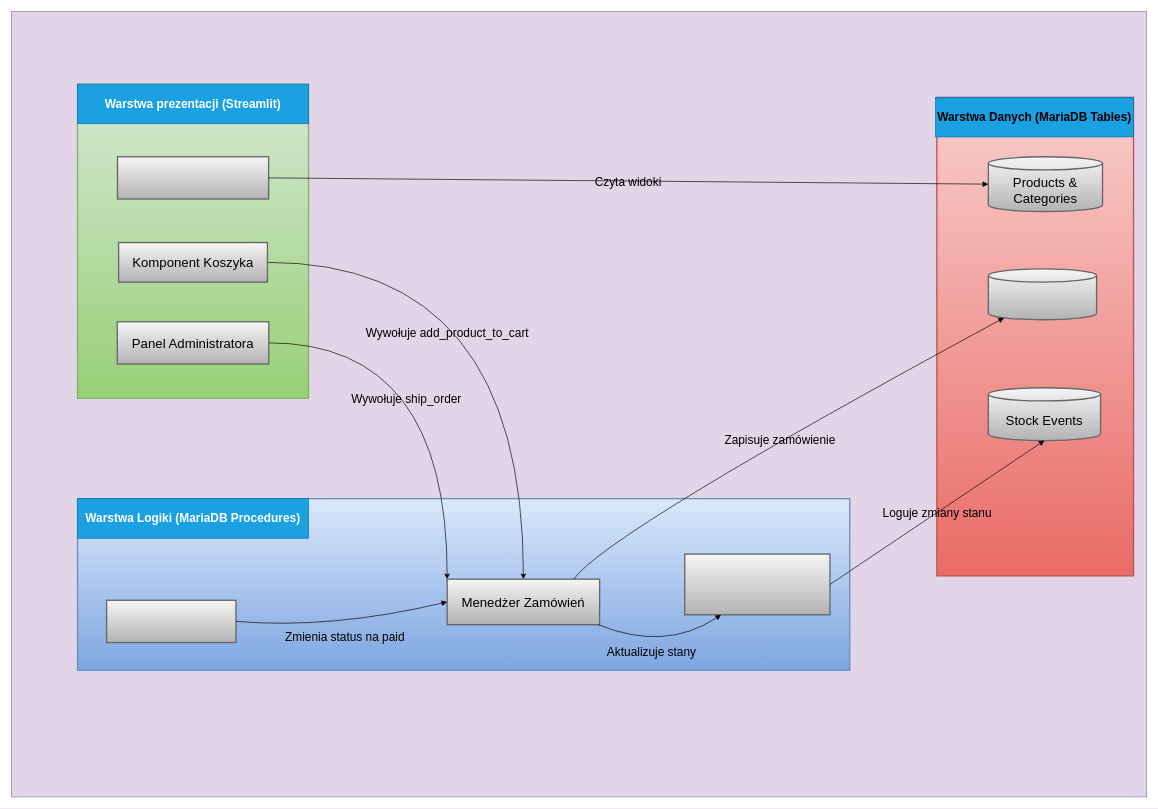
The diagram is 1158 pixels wide and 809 high, and some of its shapes have lost their labels. The box of each missing label's shape, as (x1, y1, x2, y2) in pixels:
Komponent Katalogu: (116, 156, 269, 199)
Menedżer Magazynu Event Sourcing: (684, 553, 830, 615)
Moduł Płatności: (106, 599, 236, 643)
Orders & Invoices: (987, 268, 1097, 320)
